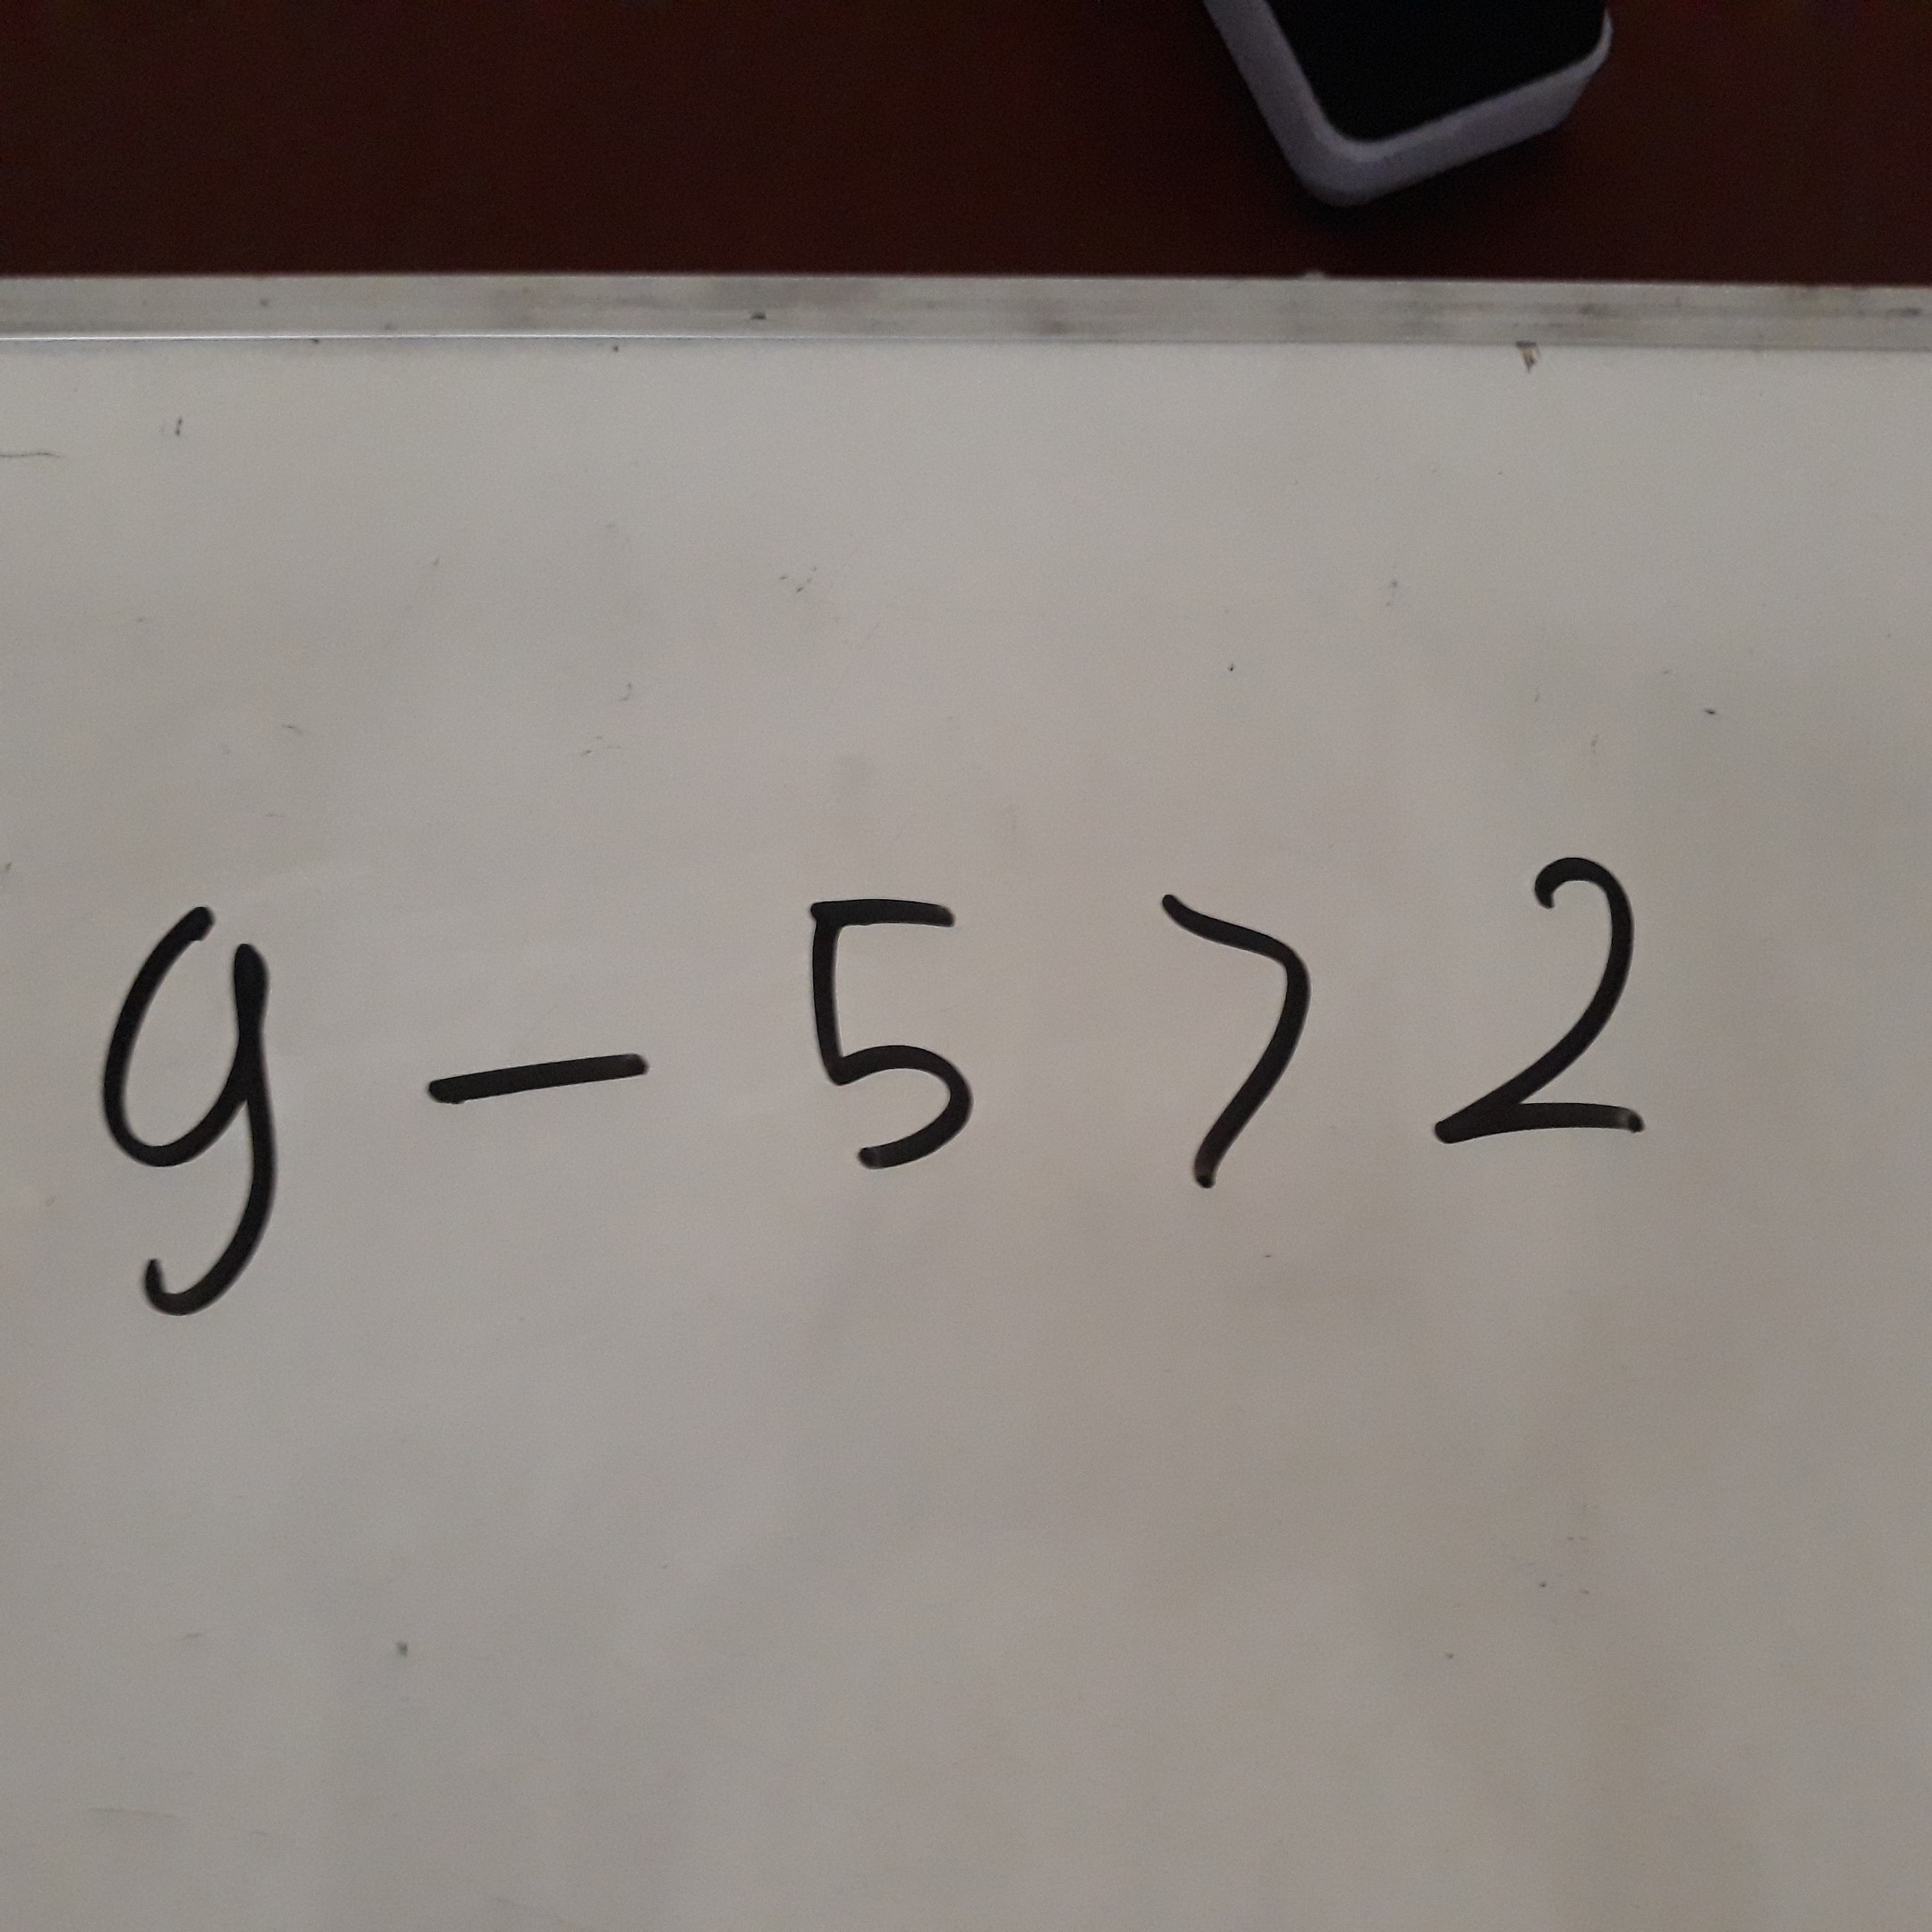min: (399, 1026, 660, 1138)
morethan: (1114, 858, 1349, 1212)
num2: (1430, 819, 1665, 1174)
num5: (773, 843, 1008, 1197)
num9: (73, 888, 313, 1356)
